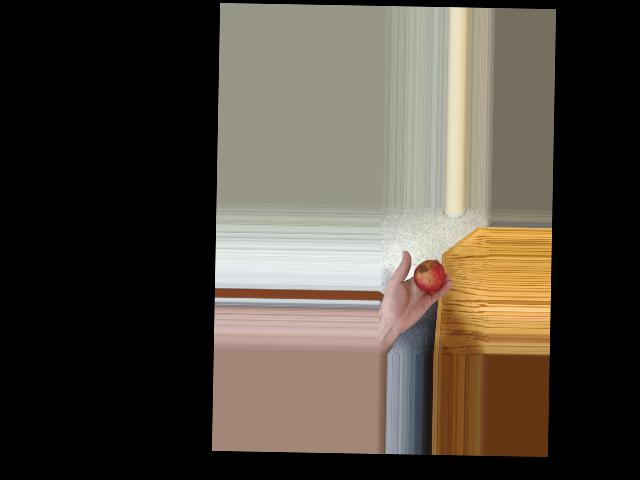apple: (410, 258, 445, 297)
